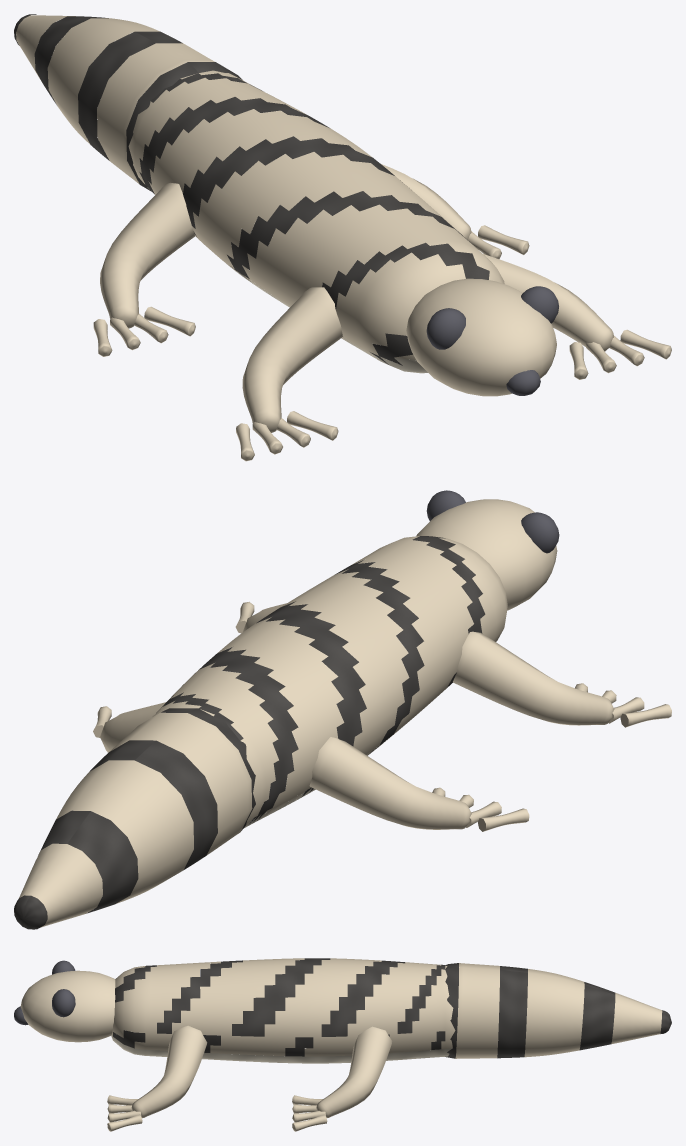
The model's file is pets-and-companions-hd-leopard-gecko-081e58b1__28165.glb.
3 renders of one model, top to bottom at view 1: azimuth 30°, elevation 25°; view 2: azimuth 150°, elevation 25°; view 3: azimuth 270°, elevation 25°, orthographic. The views are drawn at different scales.
Visible parts, largest first — view 1: leopard-gecko; view 2: leopard-gecko; view 3: leopard-gecko.
Boxes of the visible parts, box(x1,y1,x2,y2) form: leopard-gecko: box(14, 14, 671, 461); leopard-gecko: box(14, 490, 671, 929); leopard-gecko: box(14, 958, 671, 1131).
Size of the model in its own units: 0.1345 by 0.046 by 0.2742.
Materials: 4 (2 with a texture image).
